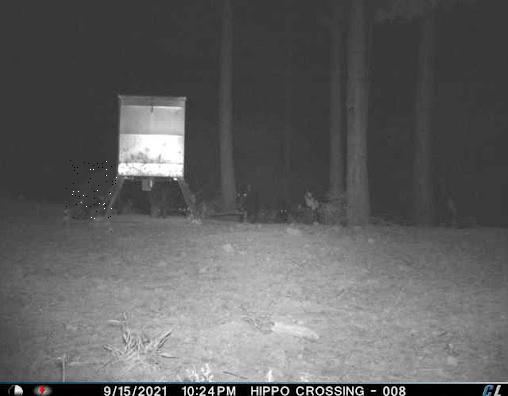Hog: (66, 160, 118, 220)
